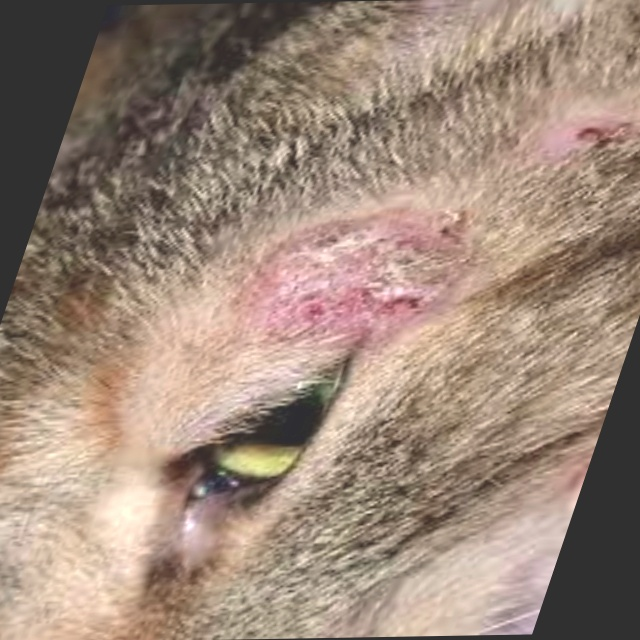ringworm: (188, 205, 484, 367), (545, 111, 640, 156)
